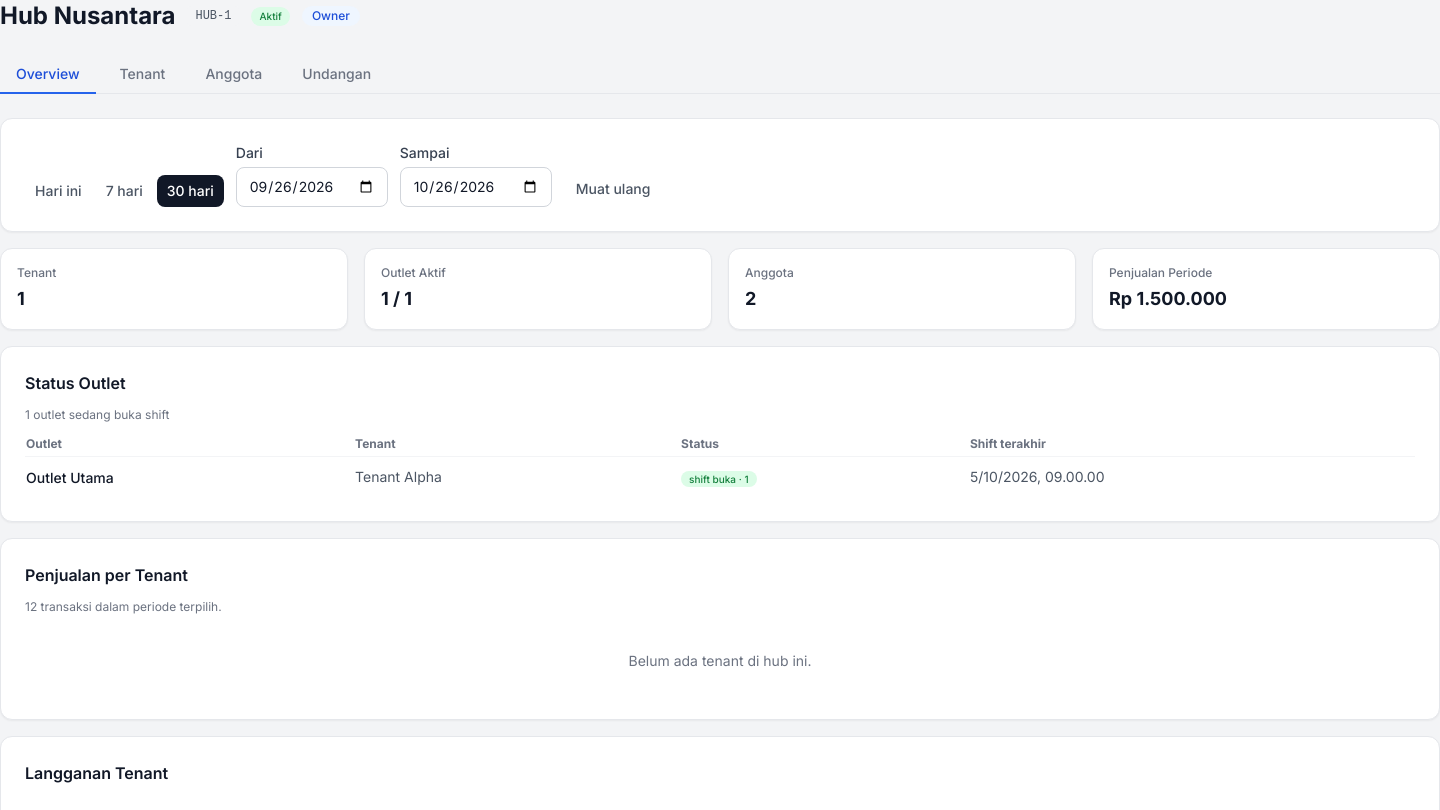
HubCenterPage › tab Anggota menampilkan anggota dan menandai yang ditangguhkan
What coordinates should you click on to do the following:
click the button "Anggota"
I would click on:
 (234, 75)
Its box is [189,56,278,94].
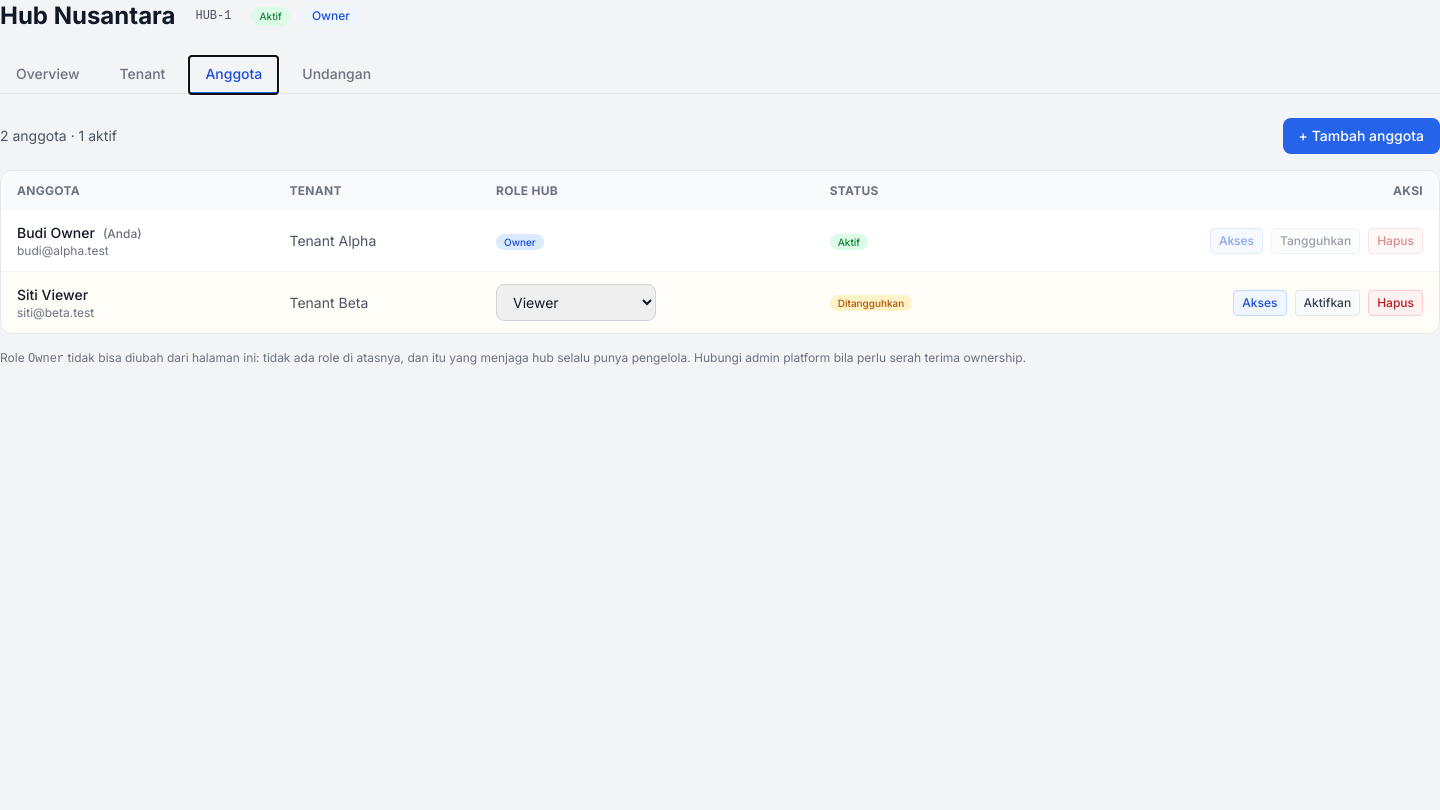
Check: the text "Siti Viewer" is shown, box [17,286,88,302]
Check: the text "Ditangguhkan" is shown, box [830,295,912,311]
Check: the text "Tenant Beta" is shown, box [274,272,480,333]
